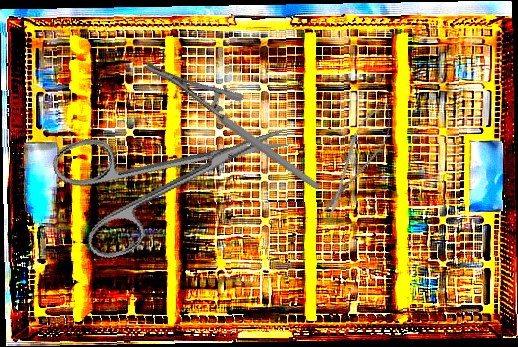Iris Scissors: (48, 82, 307, 267)
Micro Scissor: (311, 95, 403, 226)
Needle Holder: (140, 20, 322, 232)
